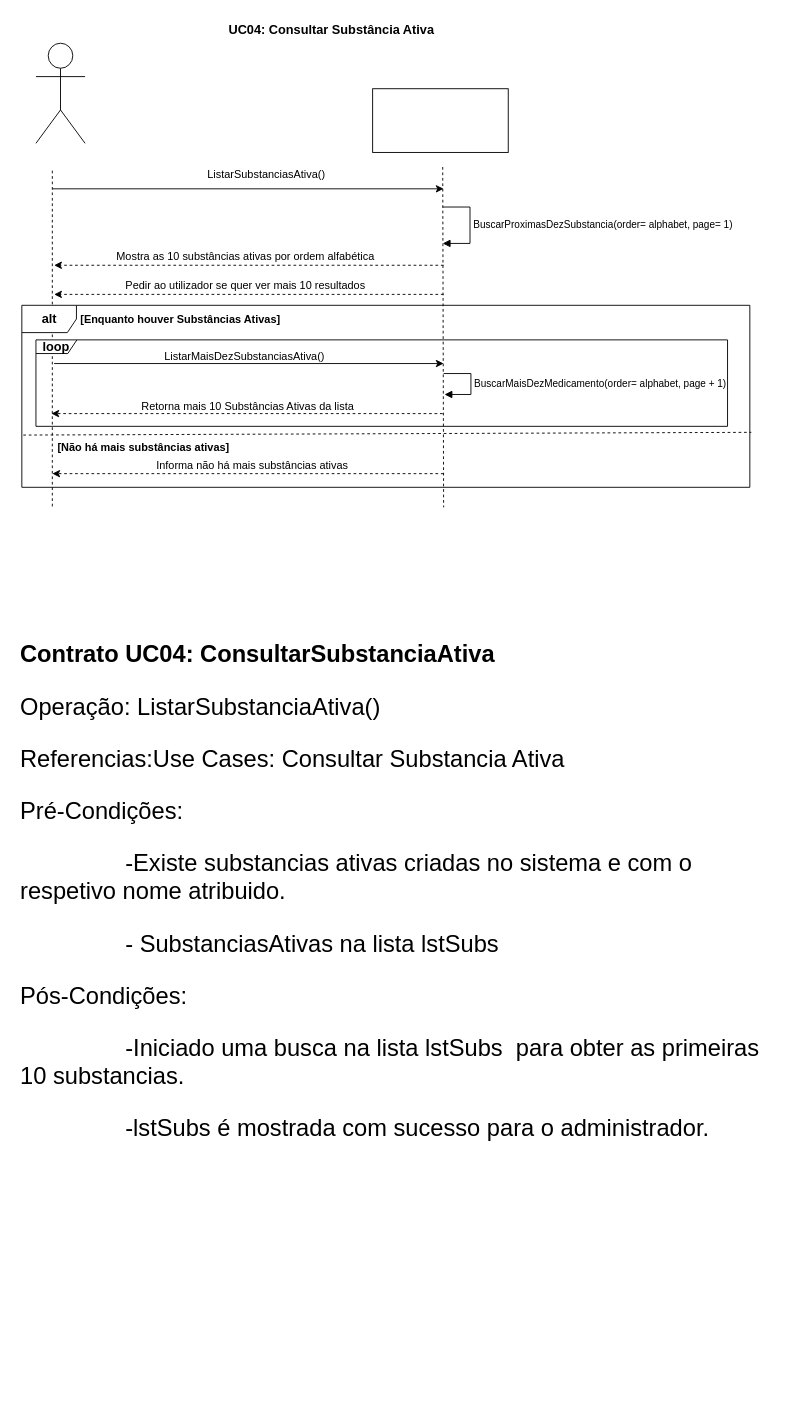
This 795x1414 diagram has some shape labels left out. The shapes that lost their labels are listed below. From the top down, each one's centre as x and y in pixels, then its label:
At point (60, 92): ":Administrador".
At point (440, 120): ":Sistema".
